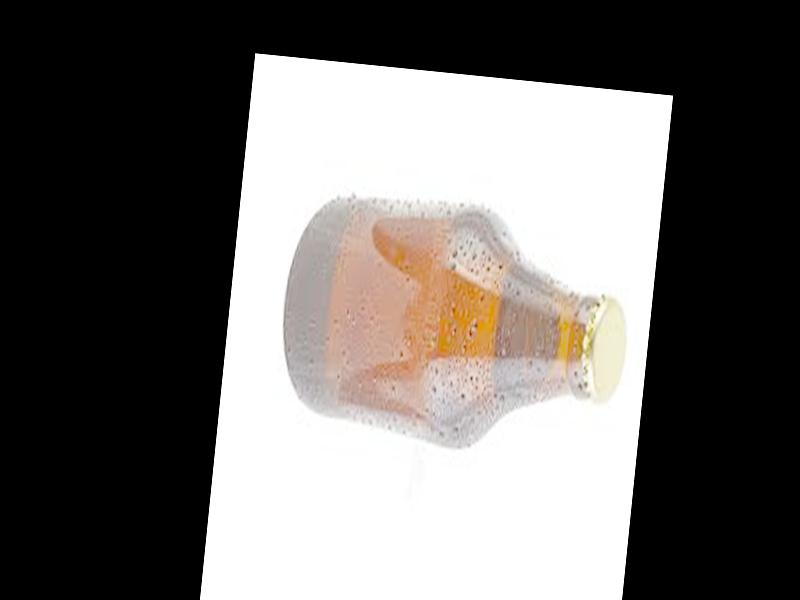Beer: (275, 193, 637, 446)
